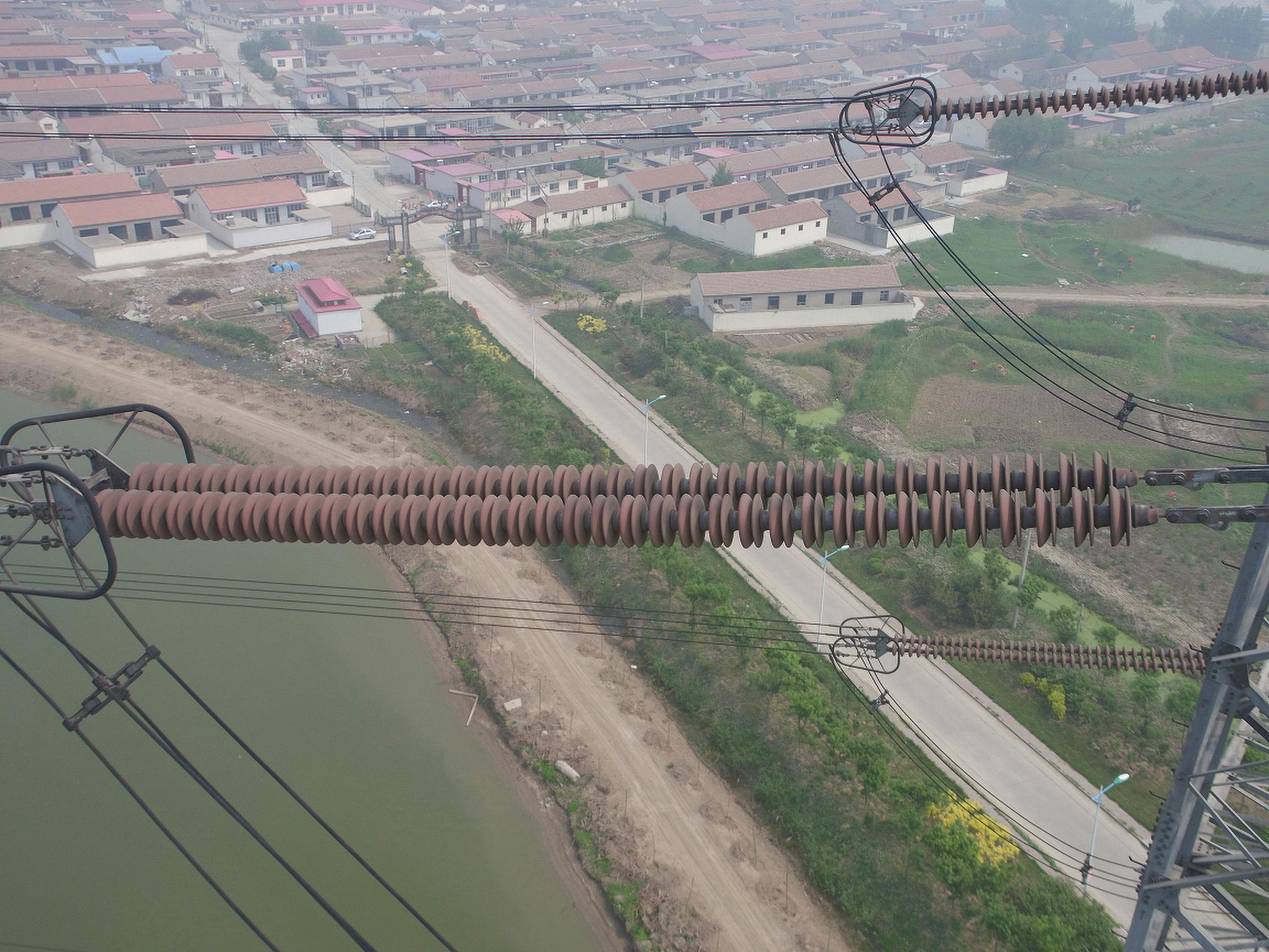insulator: (85, 444, 1148, 556), (917, 61, 1269, 127), (890, 631, 1207, 676)
